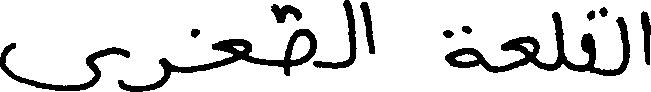X: (0, 38, 129, 91), (285, 0, 316, 80), (446, 21, 480, 72), (501, 31, 538, 76), (131, 53, 169, 91), (212, 34, 249, 73), (582, 5, 595, 77), (361, 0, 374, 58), (619, 12, 629, 79), (343, 0, 352, 72), (554, 7, 563, 74), (641, 6, 650, 69)
